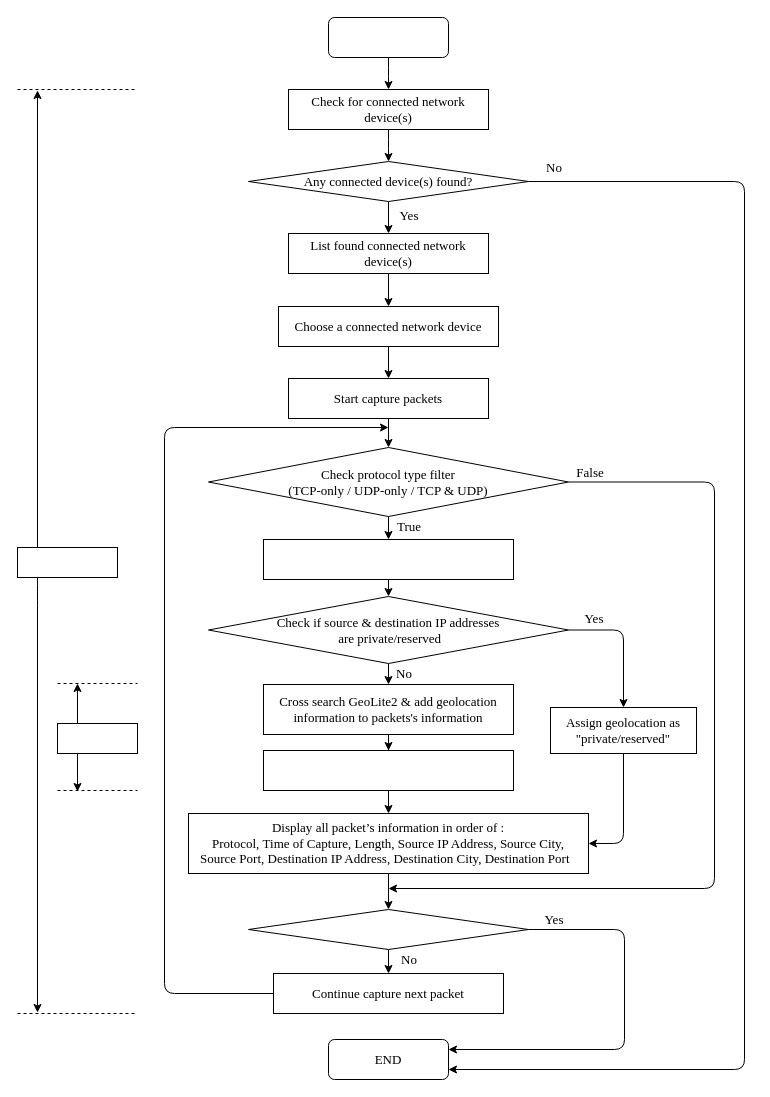
This 770x1097 diagram has some shape labels left out. Here are the shapes that lost their labels. From the top down, the centre of each, then its label:
the point at 388,37: START
the point at 67,562: Packet Capture
the point at 388,559: Add packets information from SharpPCap
the point at 97,738: Visualisation
the point at 388,770: Add overlay to map for packet's movement
the point at 388,929: Stop capture?
